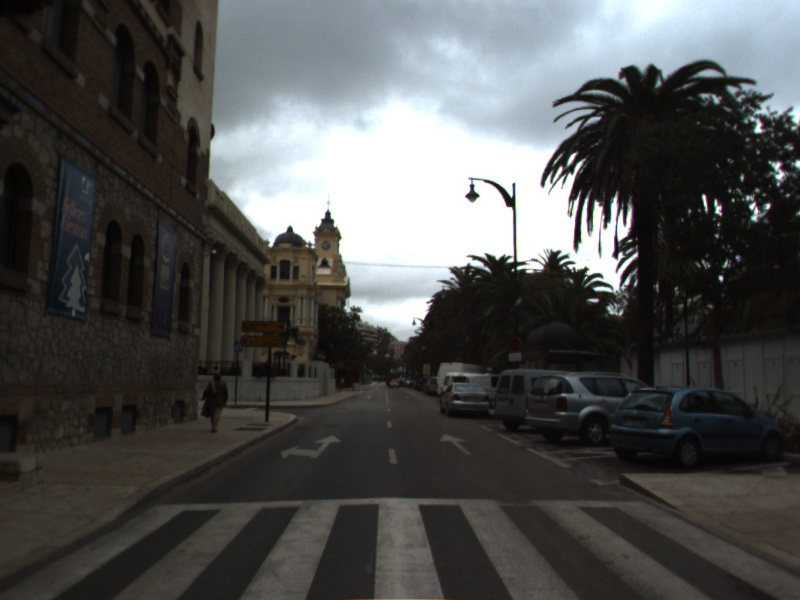STRAIGHT: (438, 431, 474, 457)
STRAIGHT_LEFT: (278, 433, 344, 461)
